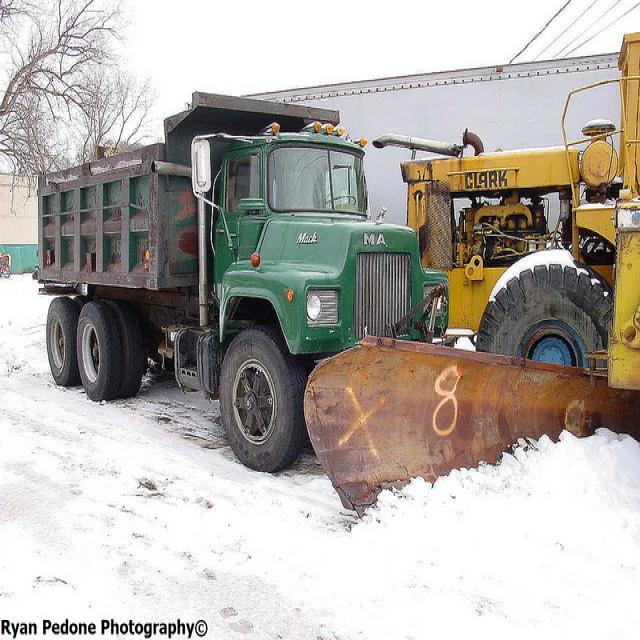Vehicle: (33, 94, 448, 473)
